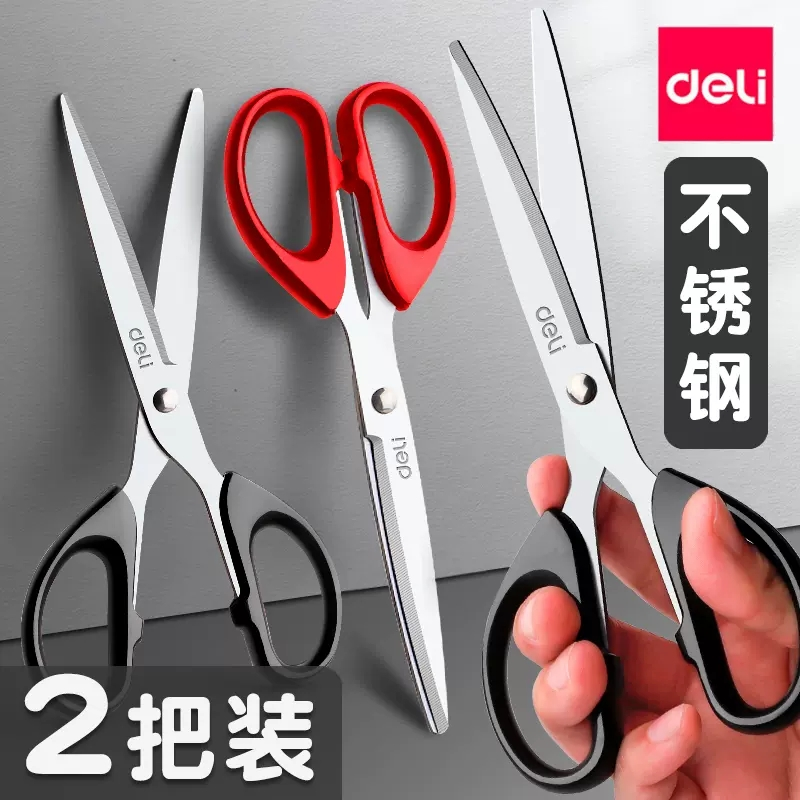scissors: (424, 6, 794, 796), (20, 86, 348, 685), (211, 74, 463, 743)
